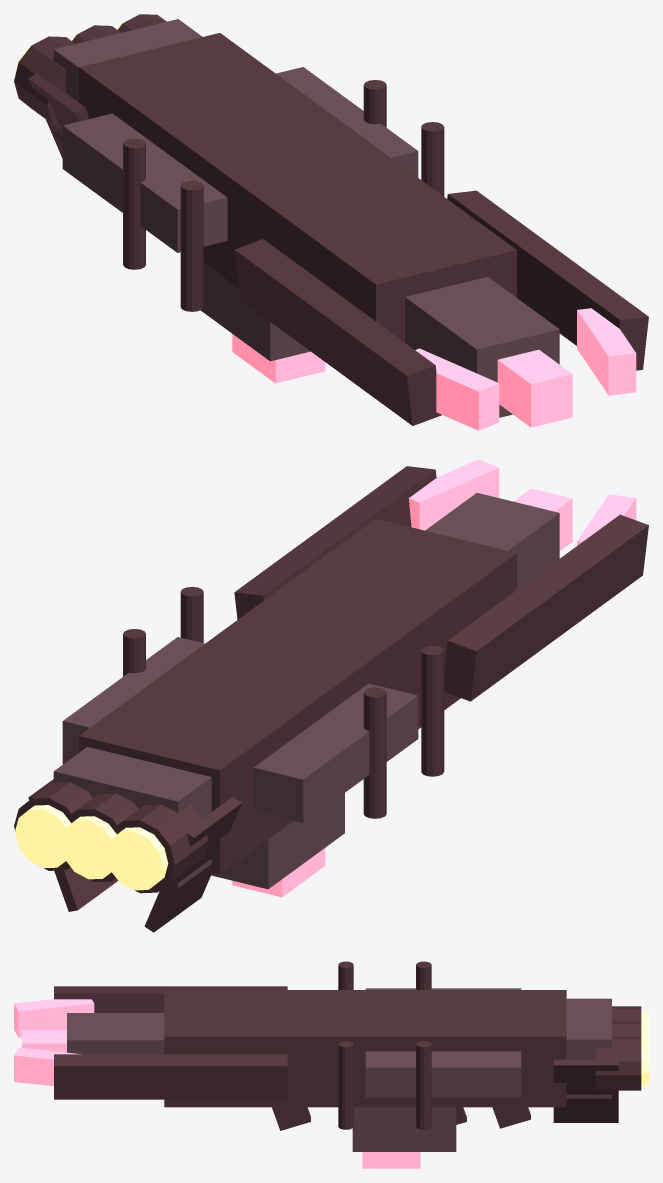
The model's file is warlord.glb.
3 views of the same model, one above another, from view 1: azimuth 30°, elevation 25°; view 2: azimuth 150°, elevation 25°; view 3: azimuth 270°, elevation 25° (orthographic). The views are drawn at different scales.
Visible parts, largest first — view 1: Warlord; view 2: Warlord; view 3: Warlord.
Boxes of the visible parts, x1,y1,x2,y2 form: Warlord: (14, 14, 648, 430); Warlord: (14, 459, 648, 932); Warlord: (14, 961, 648, 1168).
Bounding box in the file's own units: 3.14 × 2.65 × 9.79.
